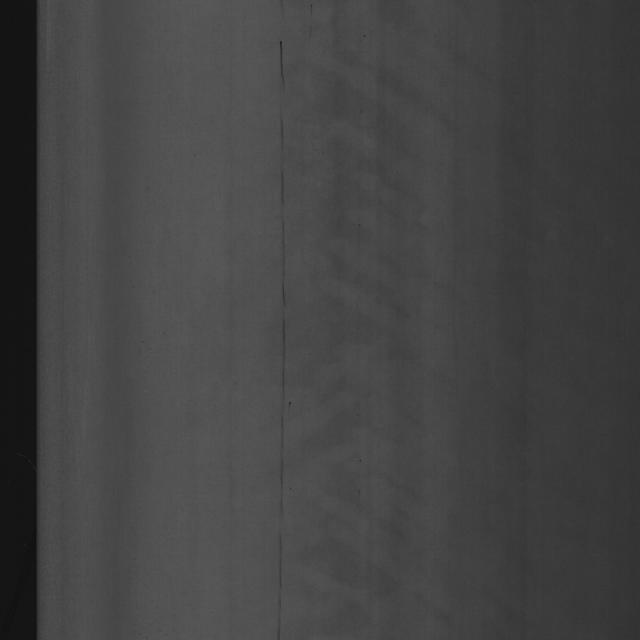oil_spot: (261, 16, 303, 614)
water_spot: (320, 47, 417, 580)
